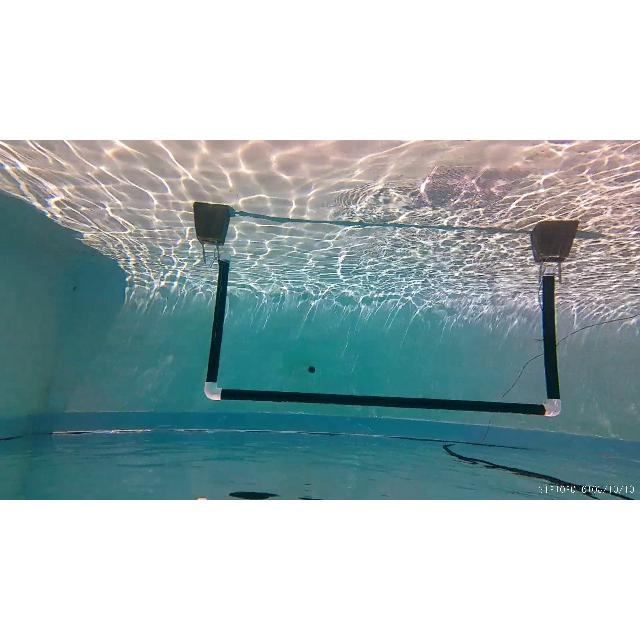prequal gate: (204, 248, 562, 418)
prequal gate leg l: (538, 263, 564, 417)
prequal gate leg r: (202, 248, 232, 406)
